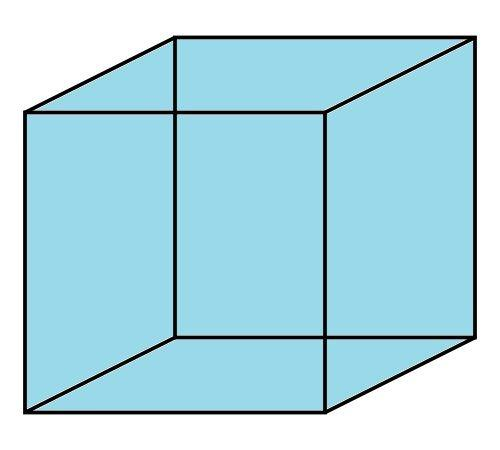cubos: (19, 22, 488, 429)
